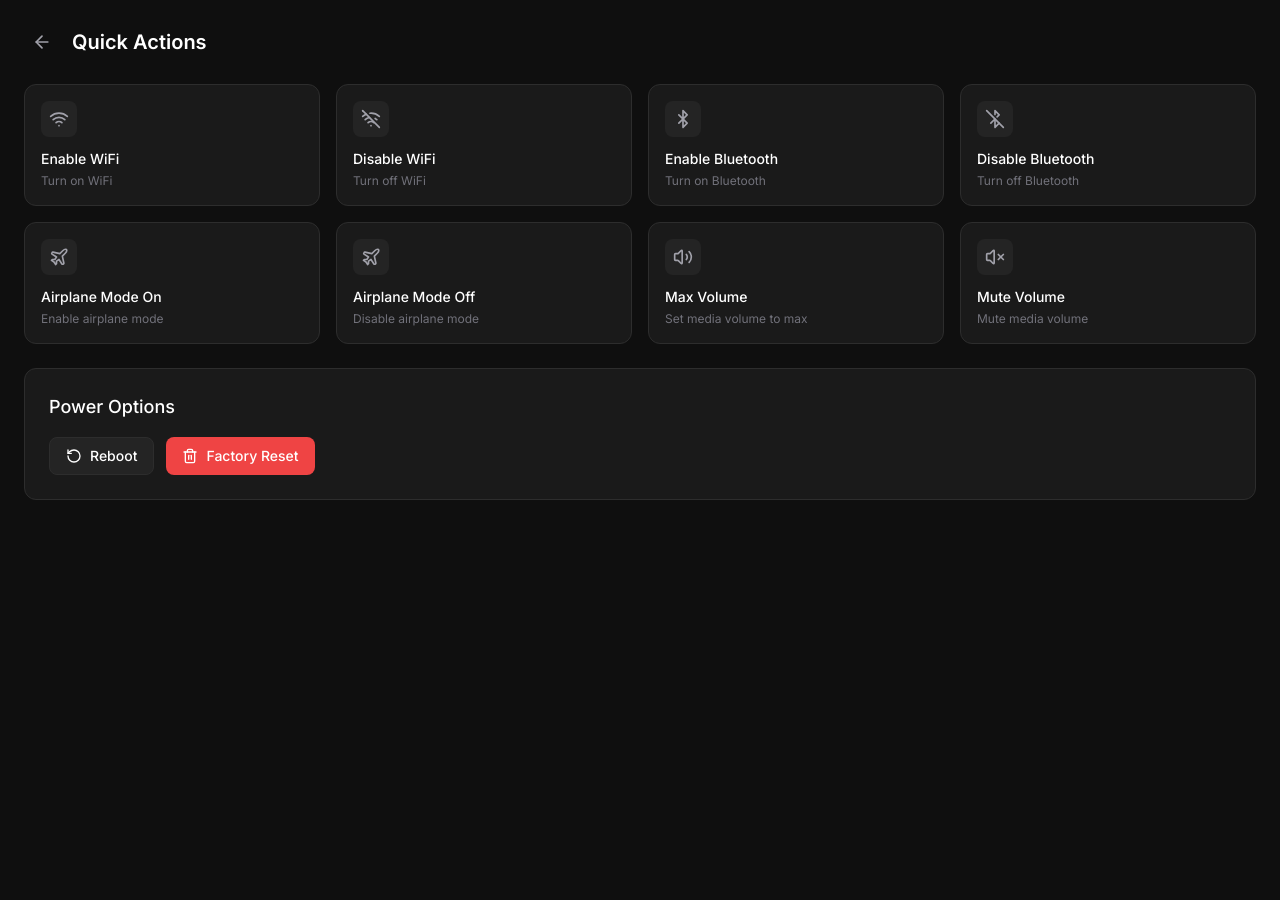
Test: QuickActionsPage › closes factory reset modal via Cancel button
What coordinates should you click on to do the following:
click the button "Factory Reset"
I would click on:
 (240, 456)
Its box is [166,437,314,475].
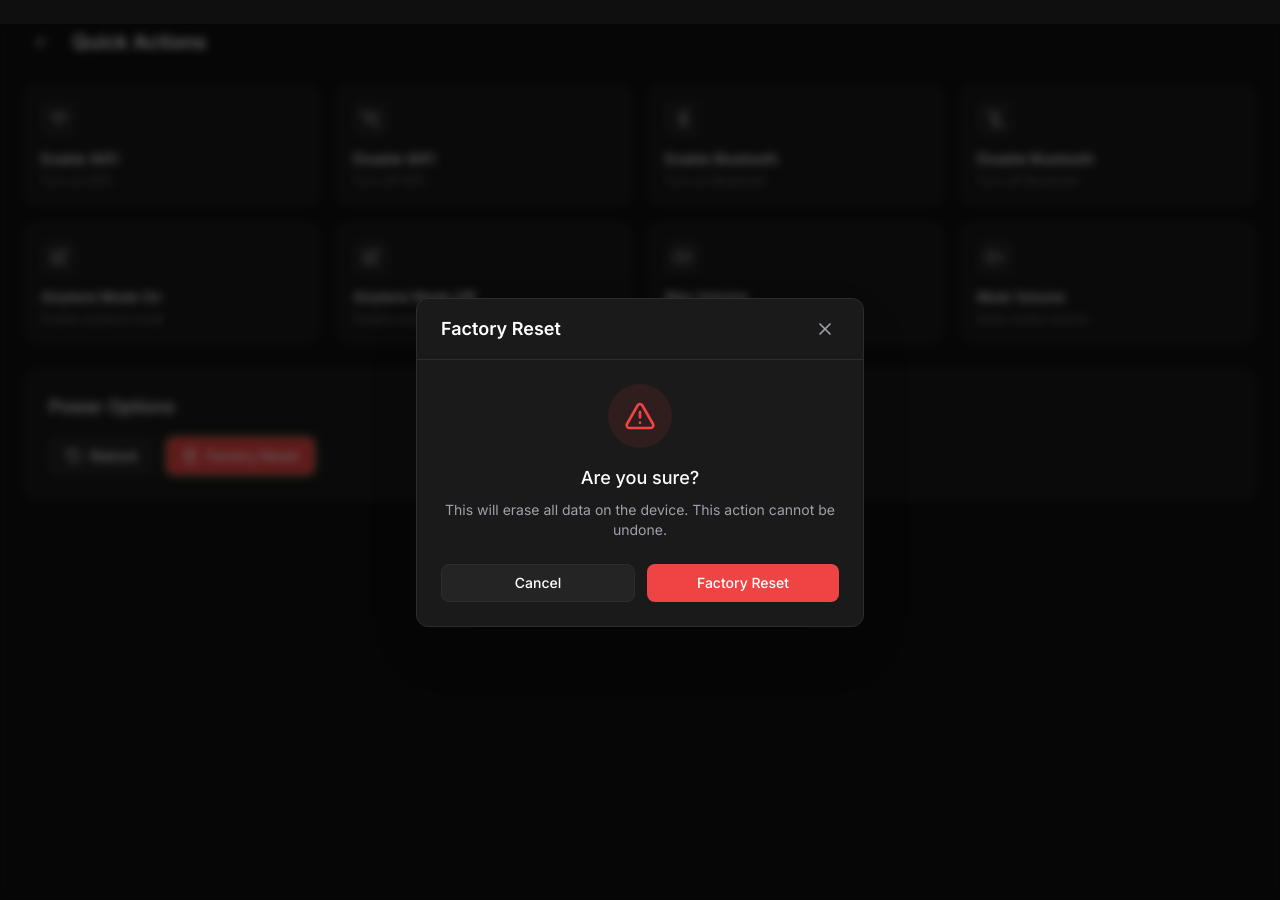
Now the heading "Are you sure?" is shown, box [581,466,699,488]
What coordinates should you click on to do the following:
click the button "Cancel"
I would click on:
 (538, 582)
Its box is [441,564,635,602].
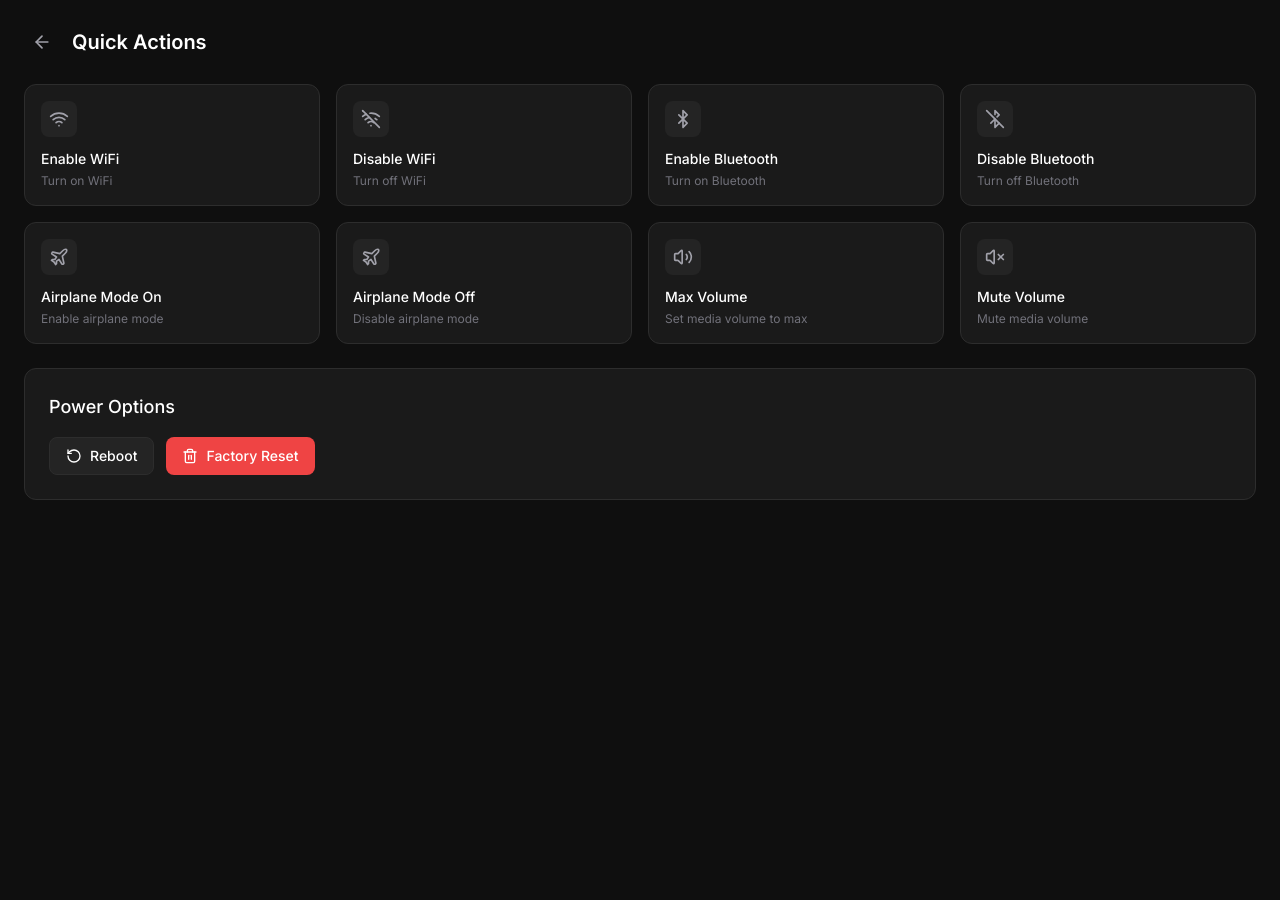
Now the heading "Are you sure?" is gone
